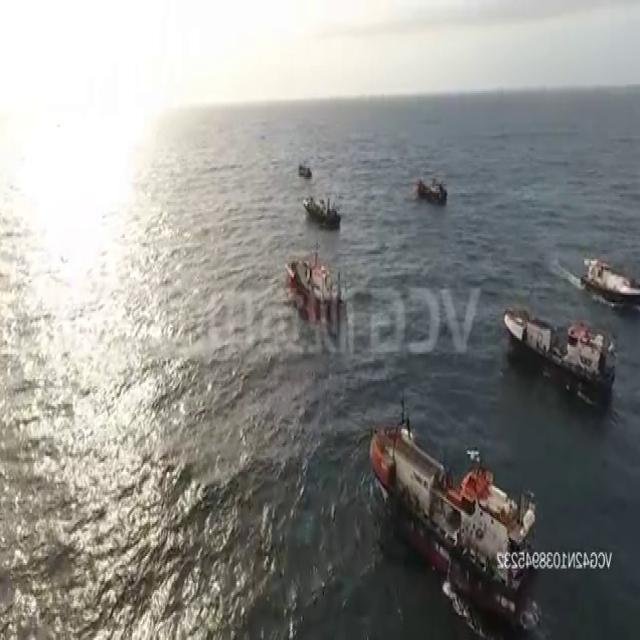houseboat: (497, 308, 617, 387), (581, 244, 640, 307), (284, 242, 341, 307), (302, 192, 340, 230), (416, 165, 446, 205), (294, 160, 314, 180)
passenger ship: (369, 410, 540, 616)
